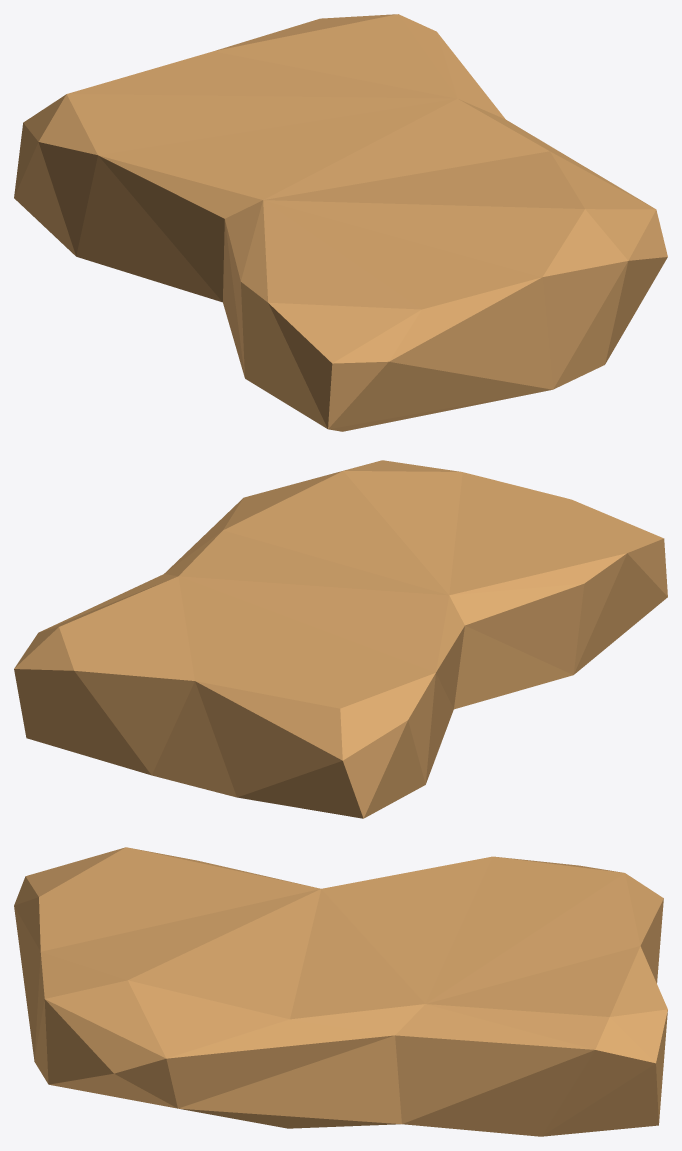
File: Path_tile_2.glb
The picture shows the model from 3 angles, top to bottom: view 1: azimuth 30°, elevation 25°; view 2: azimuth 150°, elevation 25°; view 3: azimuth 270°, elevation 25°; orthographic projection. The views are drawn at different scales.
Visible parts, largest first — view 1: Path_tile_02; view 2: Path_tile_02; view 3: Path_tile_02.
Boxes of the visible parts, box(x1,y1,x2,y2) form: Path_tile_02: box(14, 14, 667, 431); Path_tile_02: box(14, 460, 667, 818); Path_tile_02: box(14, 847, 667, 1136).
Size of the model in its own units: 0.1291 by 0.0379 by 0.185.
